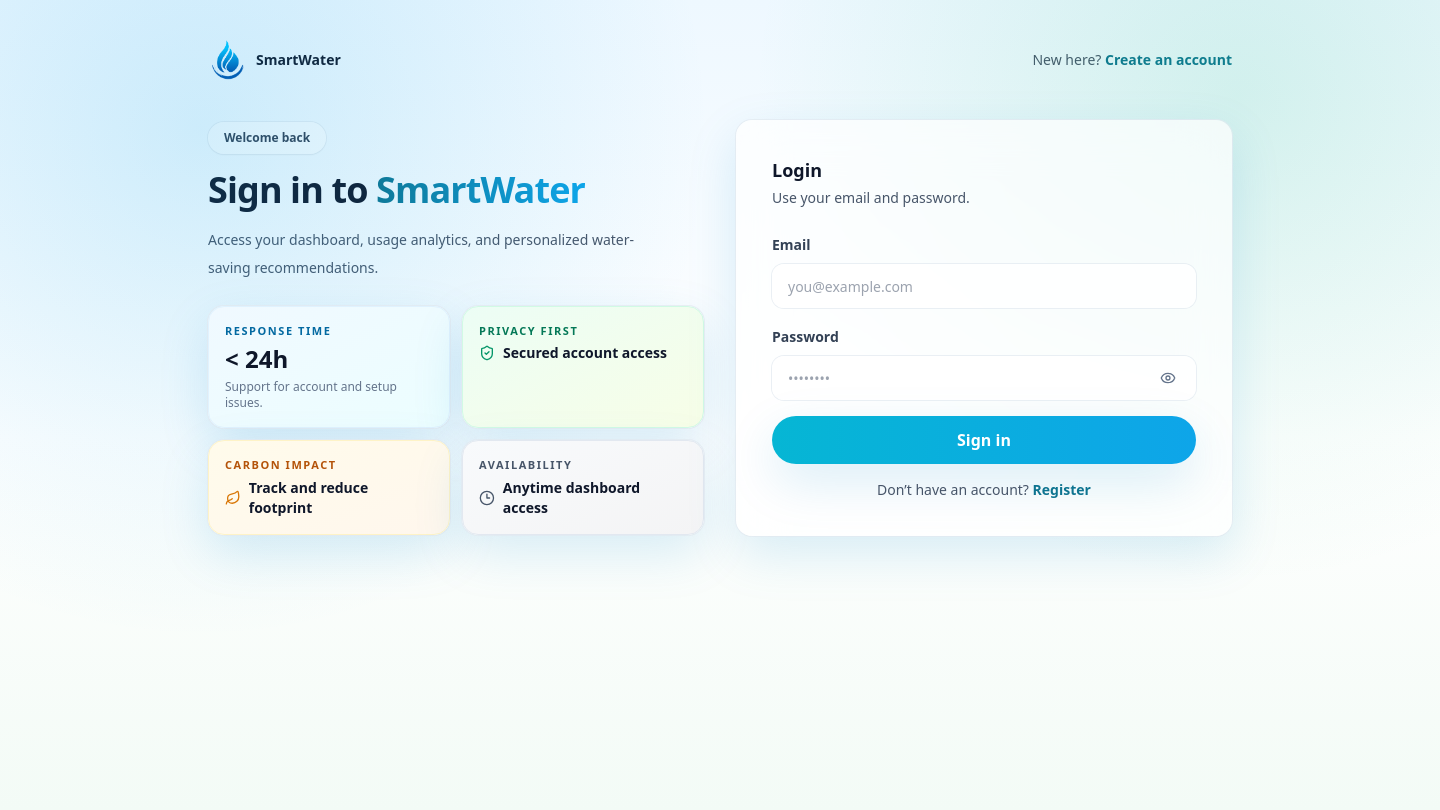
Test: shows fallback login error when backend error has no message
Type "fallback@example.com" into the field with placeholder "you@example.com" at x=984, y=286, box [772,264,1196,308]
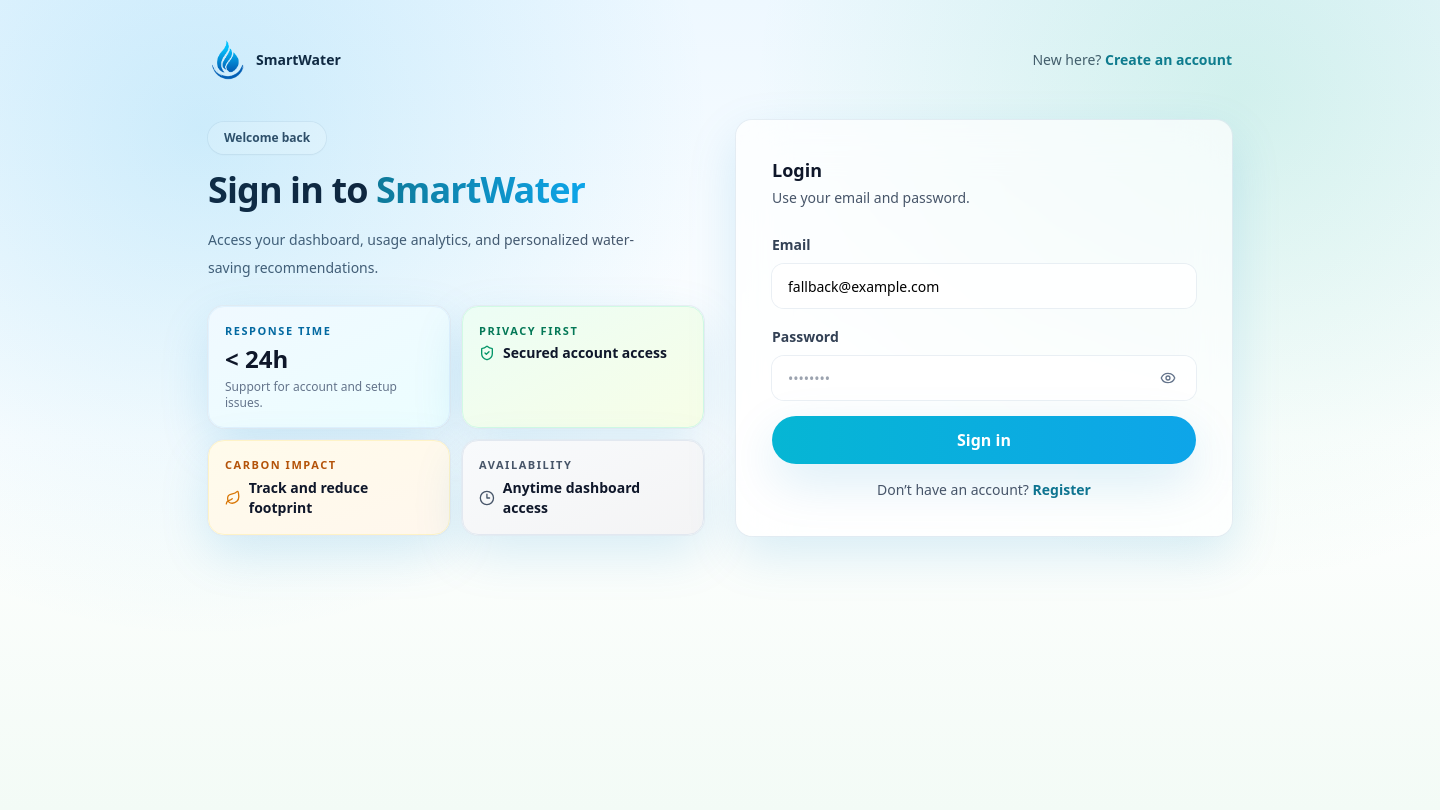
Type "fallbackpass" into the password field with placeholder "••••••••" at x=984, y=378, box [772,356,1196,400]
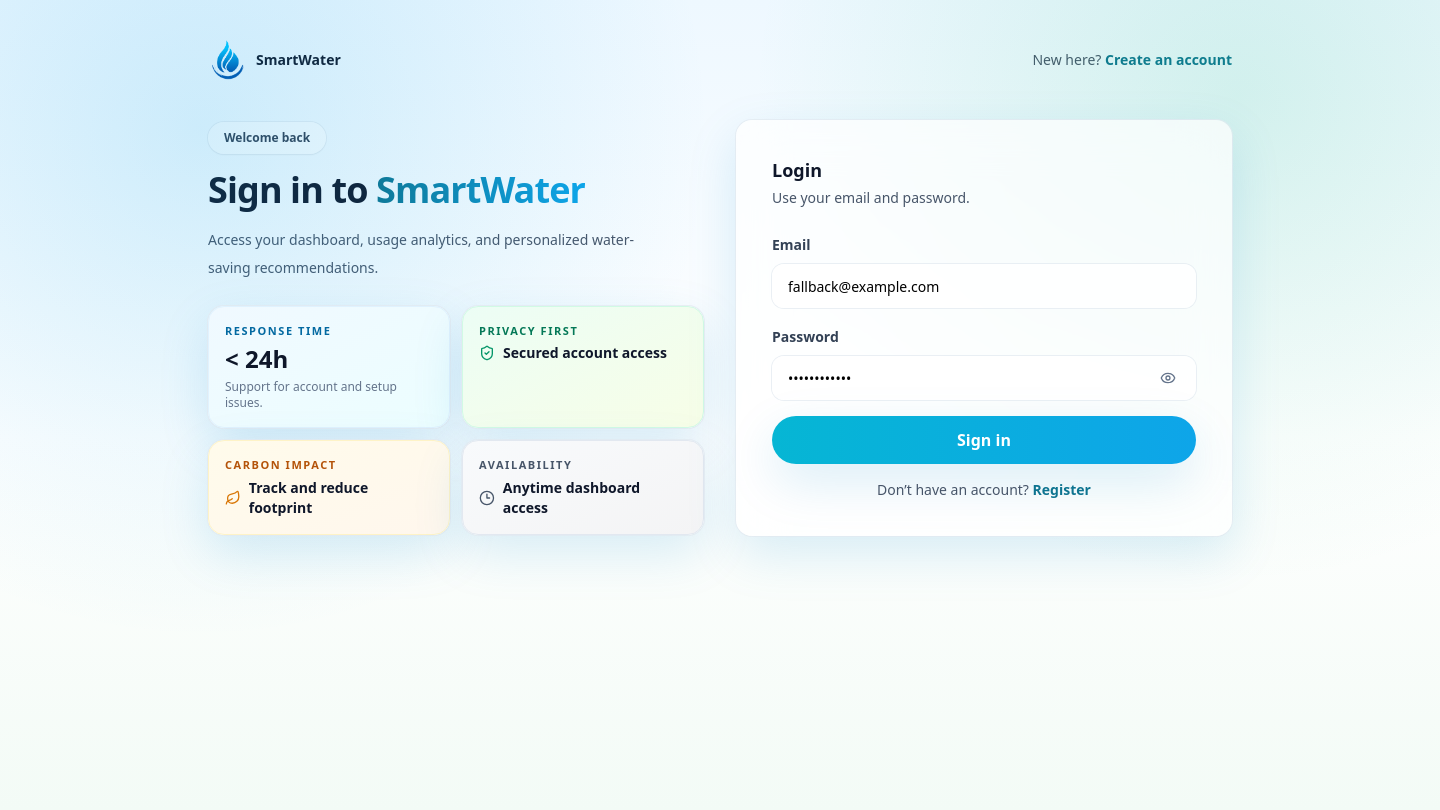
Click the button "Sign in" at x=984, y=440, box [772,416,1196,464]
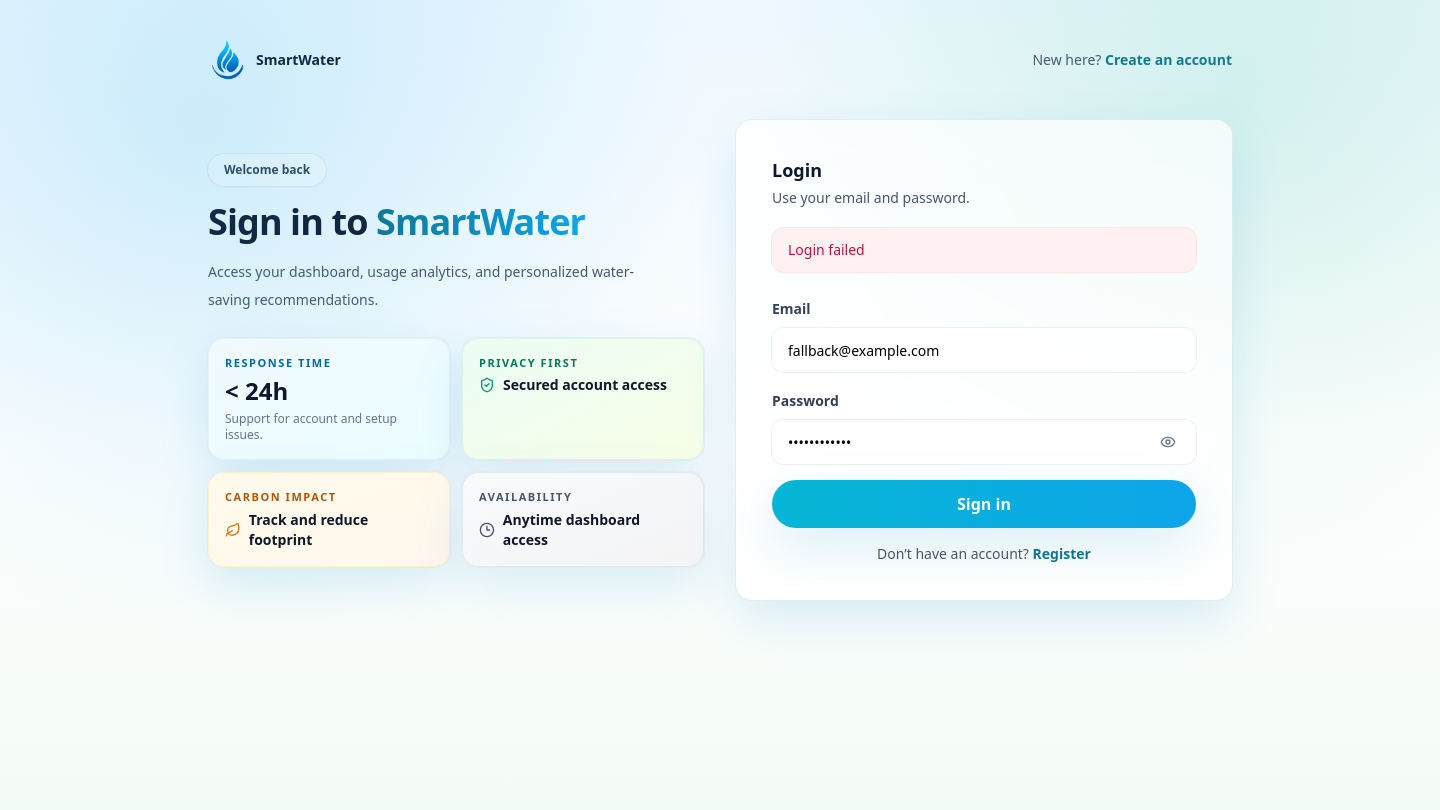
Expected: the text "Login failed" is shown, [772,228,1196,272]
